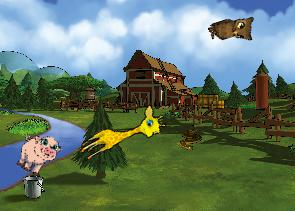giraffe: (76, 101, 169, 171)
owl: (206, 11, 259, 52)
pig: (11, 127, 64, 181)
